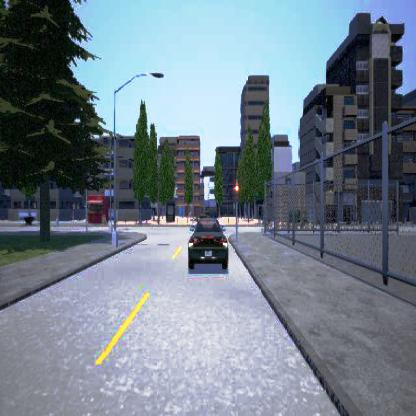vehicle: (187, 215, 228, 268)
